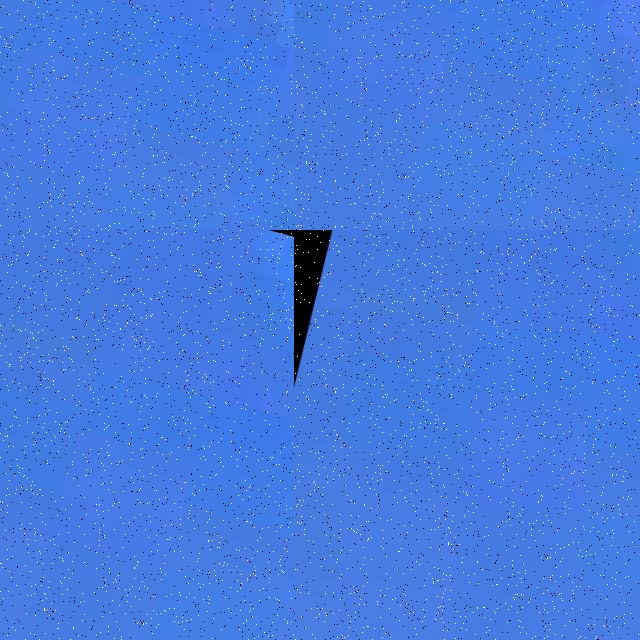drone: (294, 230, 640, 640)
